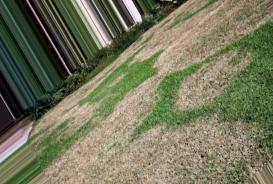patch: (78, 153, 140, 184), (182, 78, 221, 101), (174, 33, 243, 46), (148, 138, 173, 170), (187, 133, 228, 151), (96, 134, 134, 153), (113, 111, 150, 127), (204, 18, 245, 30), (169, 55, 201, 68), (48, 108, 84, 116), (51, 167, 63, 184), (57, 155, 80, 163), (153, 39, 173, 48), (87, 140, 96, 148)
